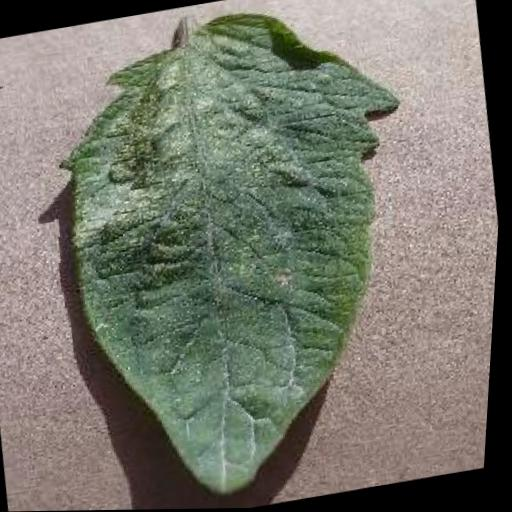Spider Mites: (28, 0, 459, 511)
